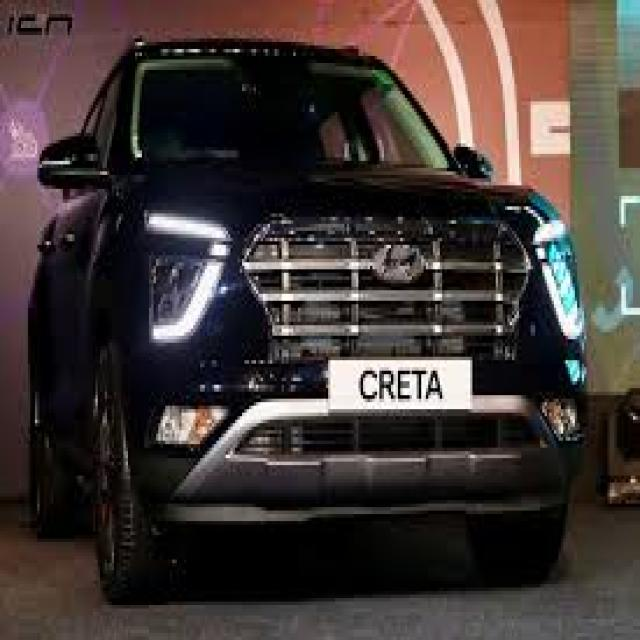SUV: (16, 29, 584, 616)
